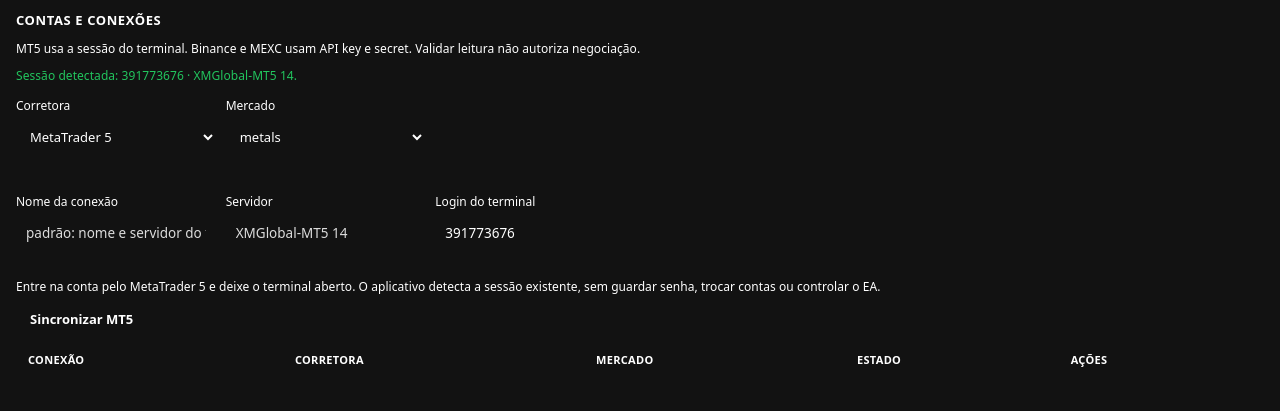
Test case: ConnectionSettings — o botão de salvar nunca é um botão morto › na exchange, cada campo faltante vira uma pendência nomeada
The width and height of the screenshot is (1280, 411).
expect the text "Sessão detectada: 391773676 · XMGlobal-MT5 14." is shown: met, box [16,67,297,84]
Select "Binance" in the dropdown labelled "Corretora" at (116, 137), box [16,119,216,155]
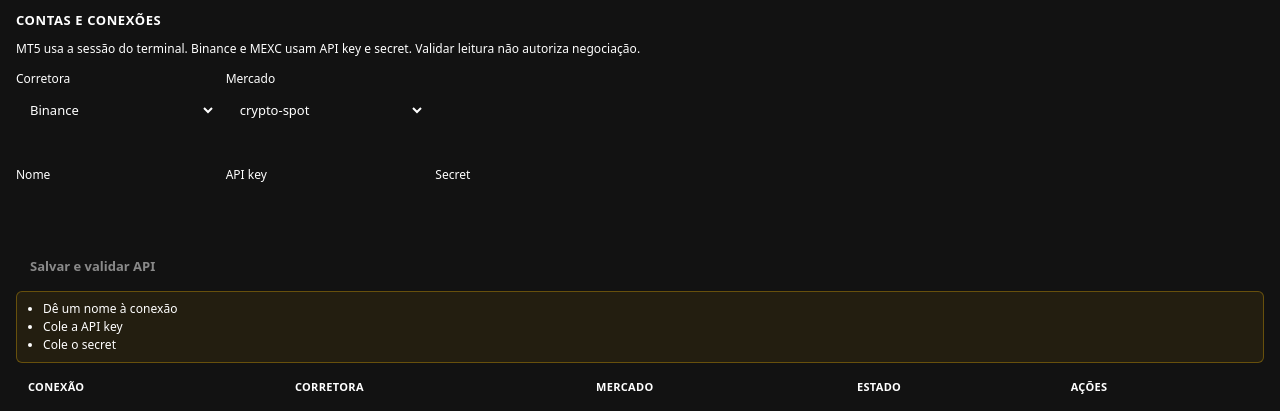
expect the button "Salvar e validar API" is disabled: met, box [16,250,169,282]
